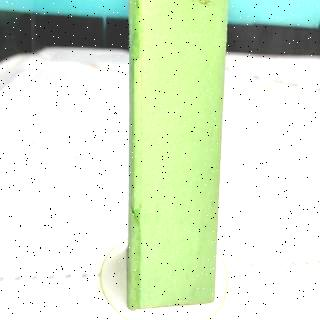greenbox: (127, 2, 229, 314)
